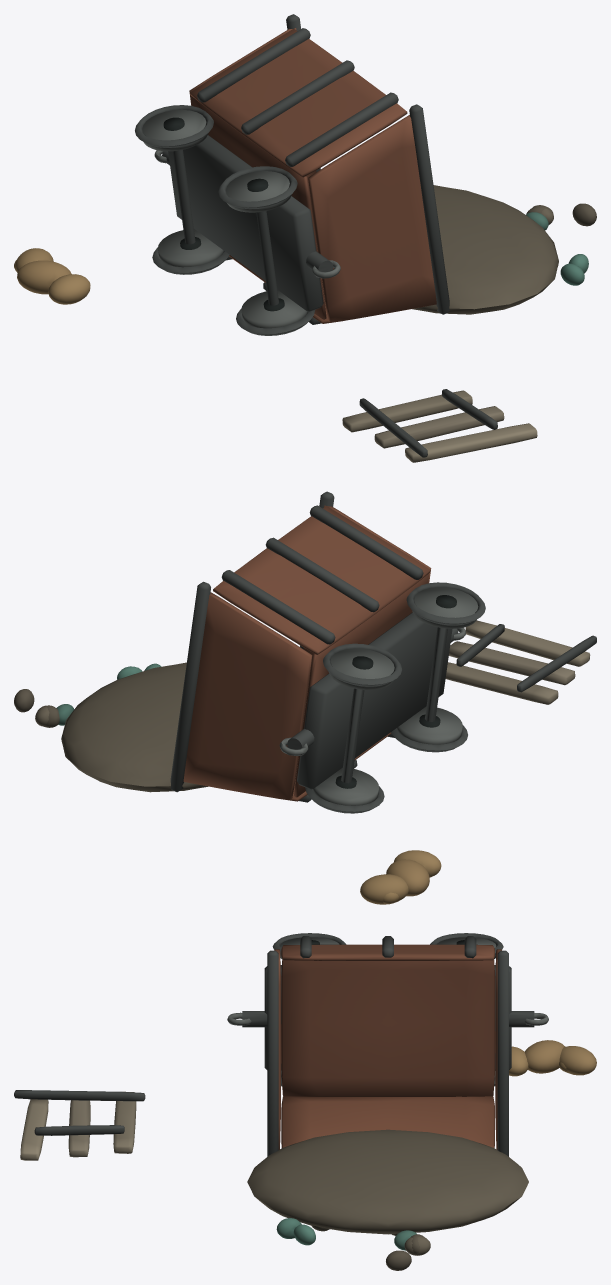
File: tram_bogie_a_lod1.glb
3 views of the same model, one above another, from view 1: azimuth 30°, elevation 25°; view 2: azimuth 150°, elevation 25°; view 3: azimuth 270°, elevation 25° (orthographic). The views are drawn at different scales.
Visible parts, largest first — view 1: Surface.001; view 2: Surface.001; view 3: Surface.001.
Part boxes in pixels (x1=…): Surface.001: x1=14, y1=14, x2=596, y2=462; Surface.001: x1=14, y1=491, x2=596, y2=904; Surface.001: x1=14, y1=933, x2=596, y2=1270.
Bounding box in the file's own units: 6.46 × 2.99 × 7.09.
